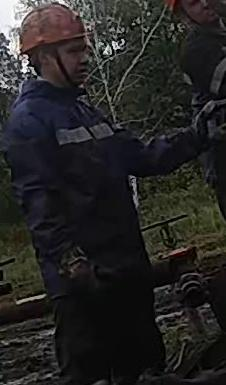gloves: (54, 250, 118, 314), (182, 93, 226, 153)
helmet: (18, 3, 92, 54), (163, 0, 177, 13)
vest: (12, 77, 153, 282), (178, 16, 225, 221)
